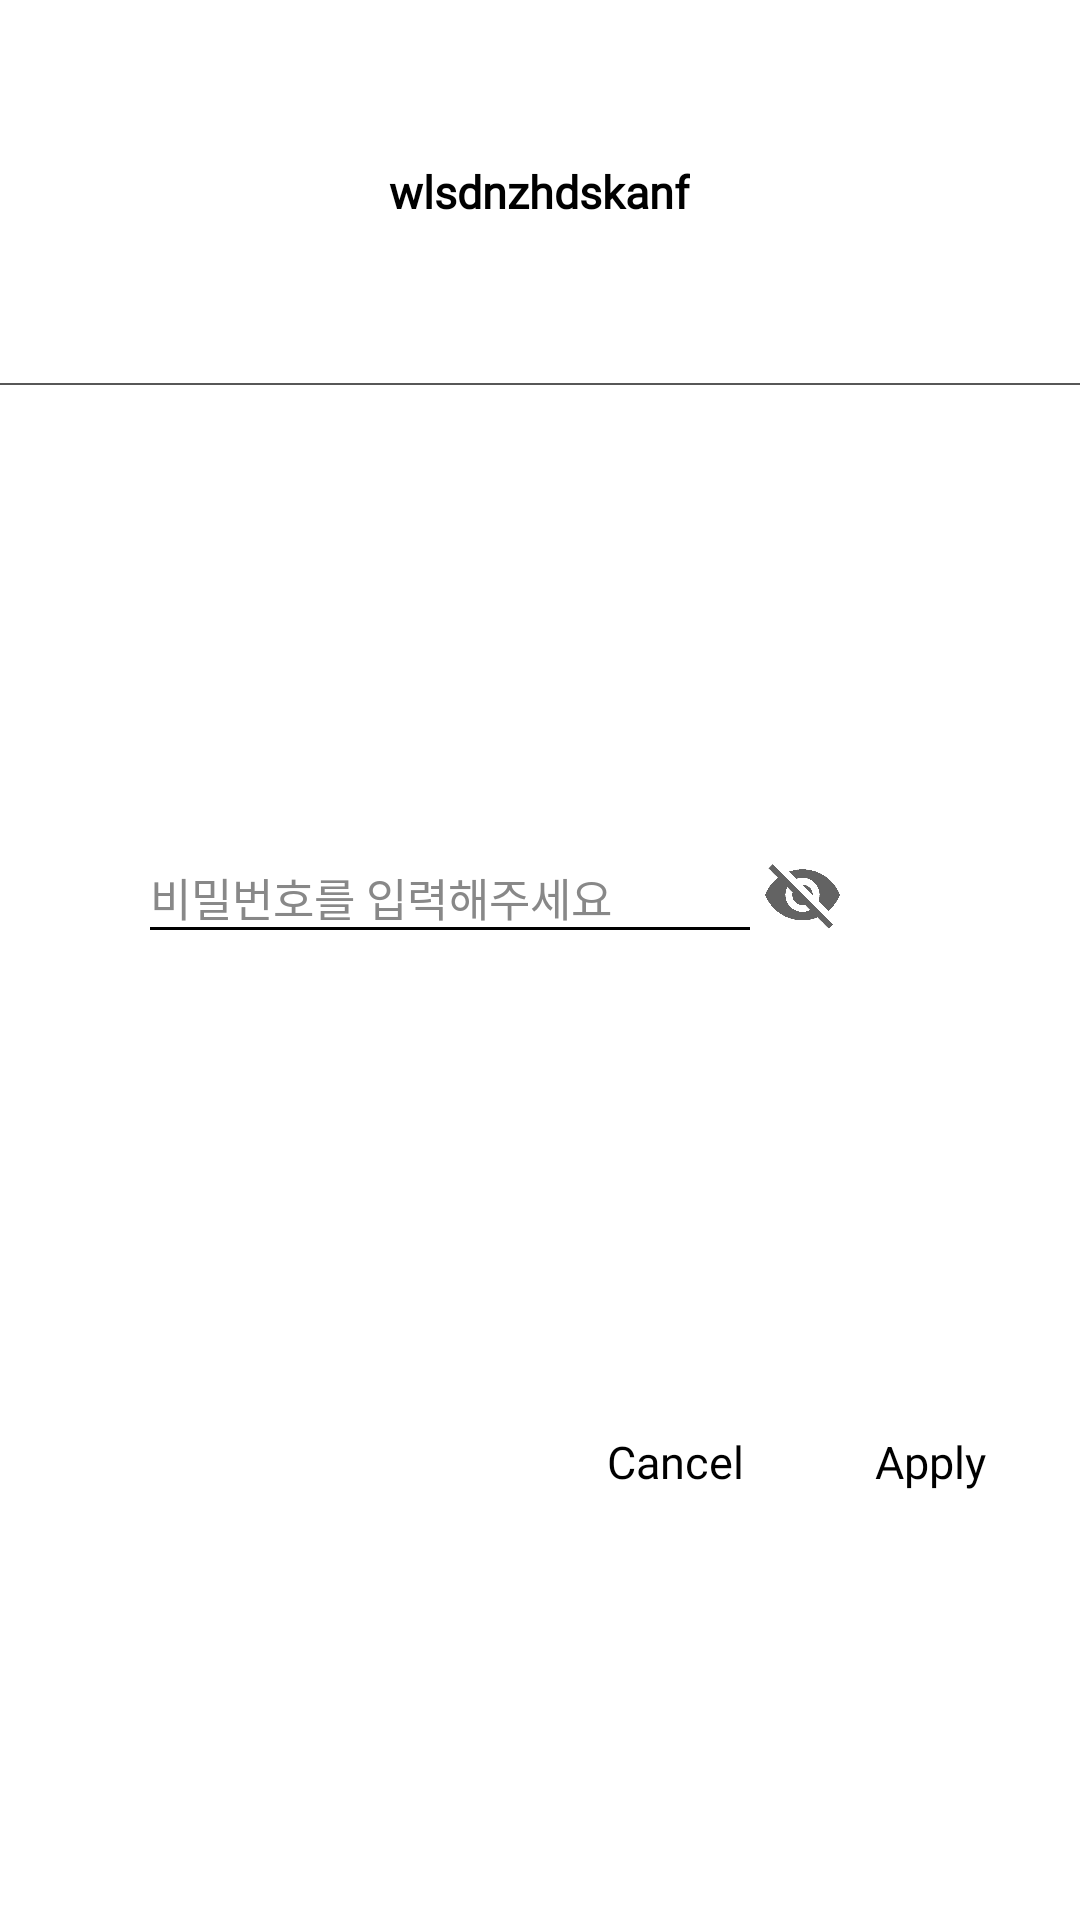

Locate icon controls on the screen. Image size 1080w x 1920h, boxes as (x1, y1, x2, y2).
invisible: (765, 864, 840, 928)
